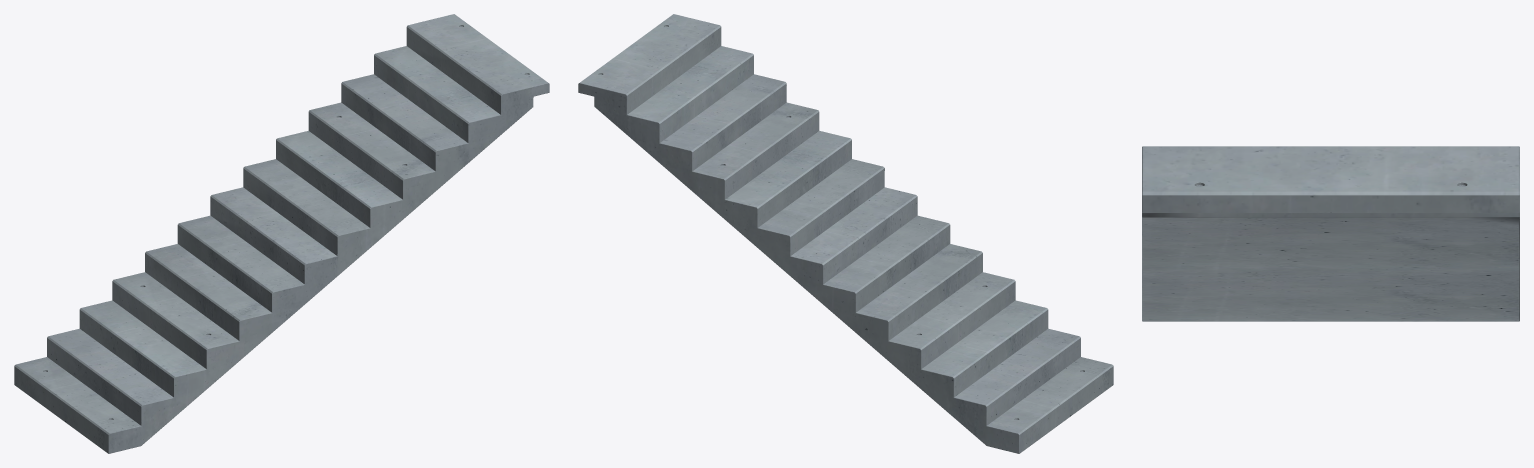
Rendered from Schody_Prefabrykowane.glb.
3 renders of one model, left to right at view 1: azimuth 30°, elevation 25°; view 2: azimuth 150°, elevation 25°; view 3: azimuth 270°, elevation 25°, orthographic. The views are drawn at different scales.
Visible parts, largest first — view 1: Schody_Prefabrykowane; view 2: Schody_Prefabrykowane; view 3: Schody_Prefabrykowane.
Boxes of the visible parts, bbox=[...] form: Schody_Prefabrykowane: bbox=[14, 14, 549, 453]; Schody_Prefabrykowane: bbox=[578, 14, 1113, 453]; Schody_Prefabrykowane: bbox=[1142, 146, 1519, 321].
Size of the model in its own units: 3.75 by 2.14 by 1.39.
Materials: 1 (1 with a texture image).
